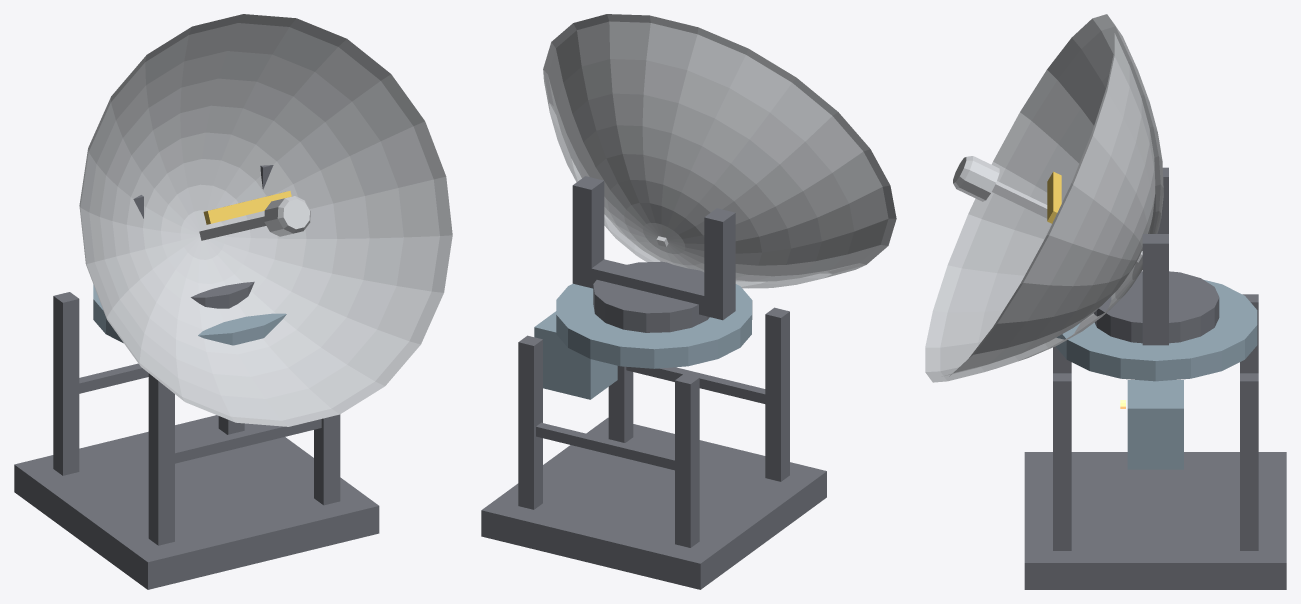
The model's file is animated-mechanisms-kit-radar-dish-a06e98ed__24625.glb.
The picture shows the model from 3 angles, left to right: view 1: azimuth 30°, elevation 25°; view 2: azimuth 150°, elevation 25°; view 3: azimuth 270°, elevation 25°; orthographic projection. The views are drawn at different scales.
Visible parts, largest first — view 1: yoke/steel, radar-dish, yoke/iron, yoke/accent; view 2: yoke/steel, radar-dish, yoke/iron; view 3: radar-dish, yoke/steel, yoke/iron, yoke/accent.
Part boxes in pixels (x1=…): yoke/steel: x1=79, y1=14, x2=452, y2=426; radar-dish: x1=14, y1=284, x2=379, y2=589; yoke/iron: x1=133, y1=165, x2=273, y2=308; yoke/accent: x1=203, y1=191, x2=291, y2=224; yoke/steel: x1=543, y1=14, x2=896, y2=288; radar-dish: x1=481, y1=283, x2=826, y2=589; yoke/iron: x1=572, y1=176, x2=735, y2=332; radar-dish: x1=1024, y1=279, x2=1286, y2=589; yoke/steel: x1=925, y1=14, x2=1163, y2=382; yoke/iron: x1=1093, y1=167, x2=1219, y2=345; yoke/accent: x1=1047, y1=171, x2=1061, y2=223.
Bounding box in the file's own units: 2.18 × 2.94 × 1.93.
